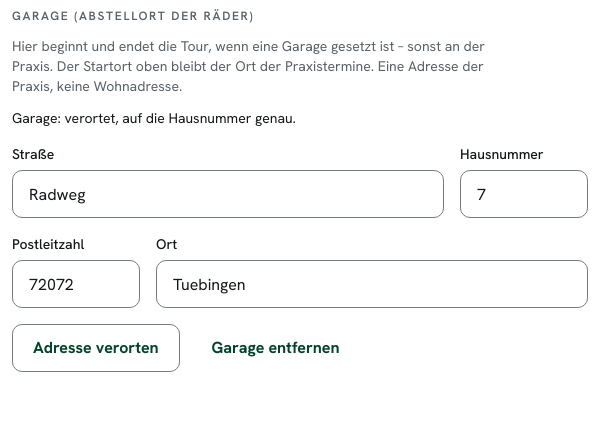
Test: GarageEinstellung (UBK-015, ANN-240) › entfernt eine gesetzte Garage
Expected: the text "Garage: verortet, auf die Hausnummer genau." is shown, [12,109,296,127]
Expected: the field labelled "Straße" holds "Radweg", [12,170,444,218]
Click the button "Garage entfernen" at (276, 348), box [192,324,360,372]
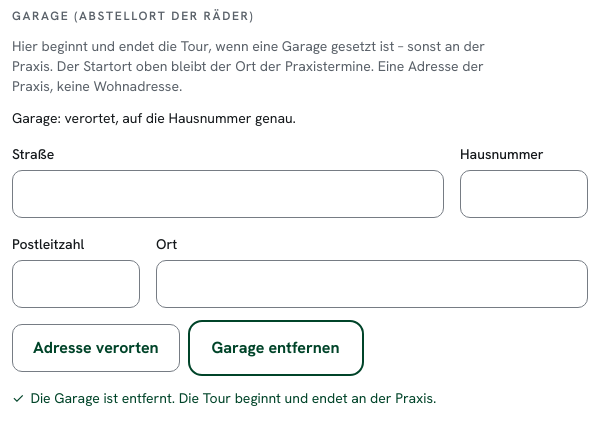
Expected: the text "✓Die Garage ist entfernt. Die Tour beginnt und endet an der Praxis." is shown, [12,389,436,407]
